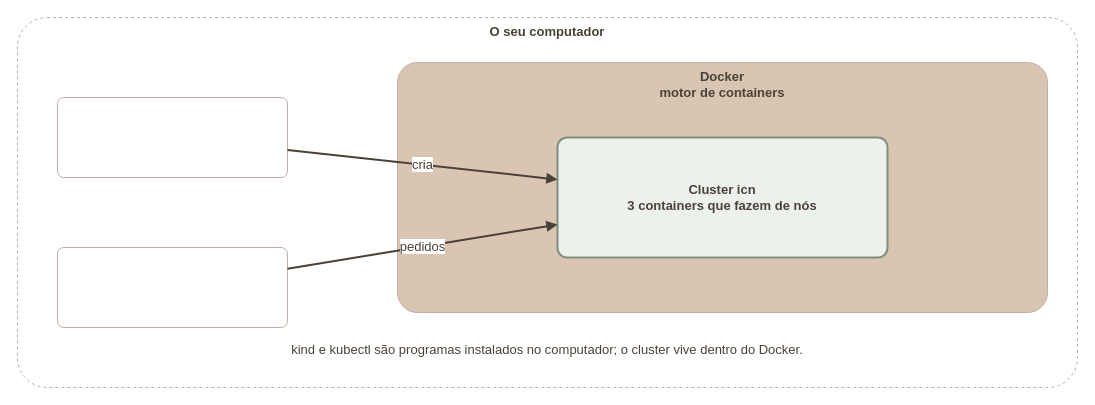
This 1095x405 diagram has some shape labels left out. Each missing label, with the centre of its shape:
"kind cria e apaga o cluster" belongs at point 172,137.
"kubectl dá ordens ao cluster" belongs at point 172,287.
